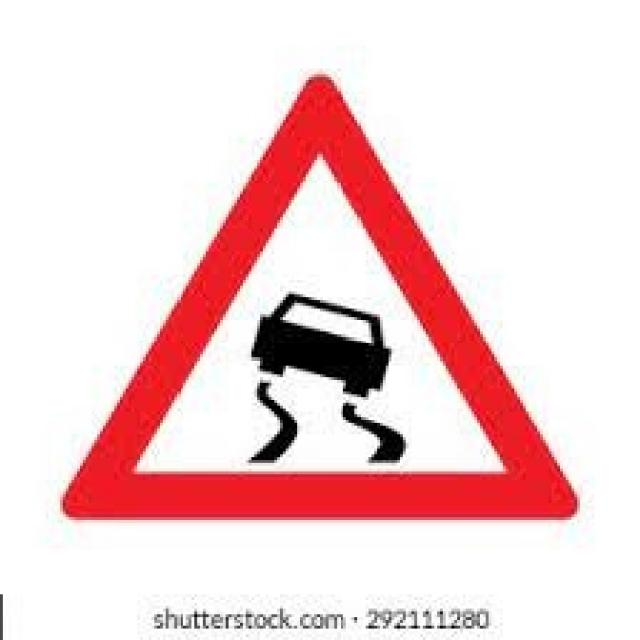road_slippery: (54, 67, 594, 524)
